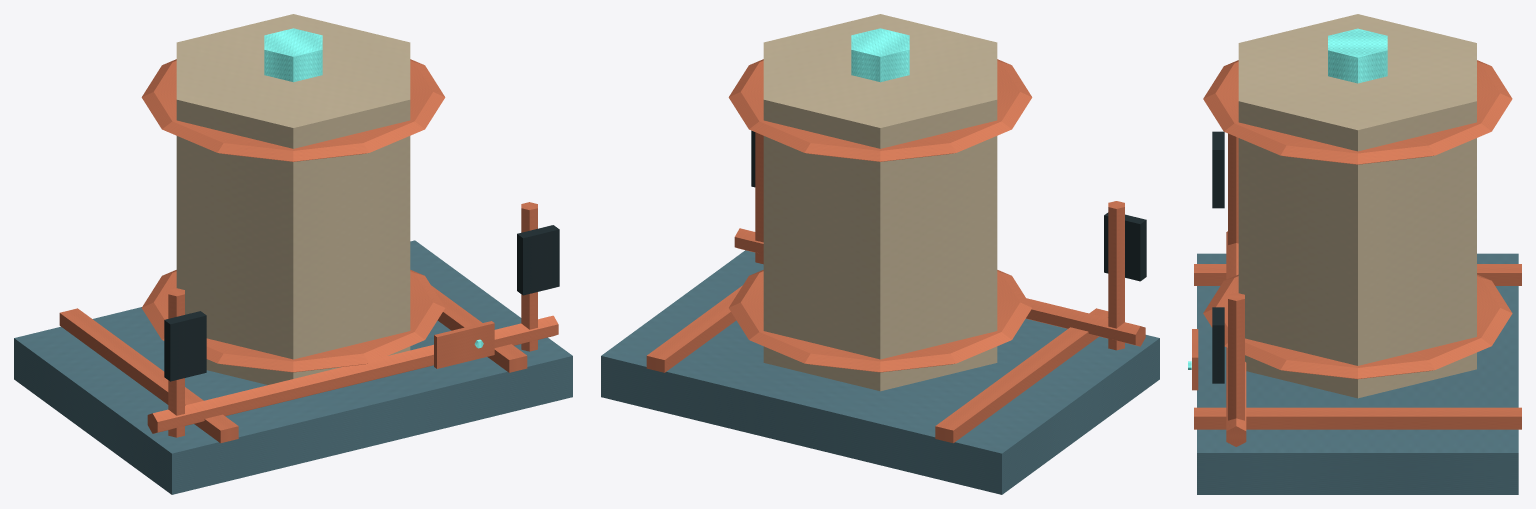
File: atlas100-s045-a02.lod1.glb
The picture shows the model from 3 angles, left to right: view 1: azimuth 30°, elevation 25°; view 2: azimuth 150°, elevation 25°; view 3: azimuth 270°, elevation 25°; orthographic projection.
Visible parts, largest first — view 1: atlas100-s045-a02:part-003, atlas100-s045-a02:part-000, atlas100-s045-a02:part-005, atlas100-s045-a02:part-011, atlas100-s045-a02:part-004, atlas100-s045-a02:part-001, atlas100-s045-a02:part-006, atlas100-s045-a02:part-008, atlas100-s045-a02:part-010, atlas100-s045-a02:part-012, atlas100-s045-a02:part-002, atlas100-s045-a02:part-009 (+1 smaller); view 2: atlas100-s045-a02:part-003, atlas100-s045-a02:part-000, atlas100-s045-a02:part-005, atlas100-s045-a02:part-004, atlas100-s045-a02:part-001, atlas100-s045-a02:part-011, atlas100-s045-a02:part-006, atlas100-s045-a02:part-002, atlas100-s045-a02:part-007, atlas100-s045-a02:part-008, atlas100-s045-a02:part-009; view 3: atlas100-s045-a02:part-003, atlas100-s045-a02:part-000, atlas100-s045-a02:part-005, atlas100-s045-a02:part-004, atlas100-s045-a02:part-002, atlas100-s045-a02:part-006, atlas100-s045-a02:part-009, atlas100-s045-a02:part-001, atlas100-s045-a02:part-011, atlas100-s045-a02:part-007, atlas100-s045-a02:part-008, atlas100-s045-a02:part-010 (+1 smaller).
Part boxes in pixels (bbox=[...]): atlas100-s045-a02:part-003: bbox=[176, 14, 410, 384]; atlas100-s045-a02:part-000: bbox=[14, 240, 572, 494]; atlas100-s045-a02:part-005: bbox=[141, 59, 445, 161]; atlas100-s045-a02:part-011: bbox=[147, 315, 558, 433]; atlas100-s045-a02:part-004: bbox=[142, 270, 444, 372]; atlas100-s045-a02:part-001: bbox=[59, 308, 238, 443]; atlas100-s045-a02:part-006: bbox=[264, 28, 322, 82]; atlas100-s045-a02:part-008: bbox=[164, 311, 206, 381]; atlas100-s045-a02:part-010: bbox=[517, 225, 559, 295]; atlas100-s045-a02:part-012: bbox=[434, 321, 494, 368]; atlas100-s045-a02:part-002: bbox=[431, 285, 527, 372]; atlas100-s045-a02:part-009: bbox=[521, 202, 537, 351]; atlas100-s045-a02:part-003: bbox=[763, 14, 997, 391]; atlas100-s045-a02:part-000: bbox=[601, 250, 1159, 494]; atlas100-s045-a02:part-005: bbox=[728, 59, 1032, 161]; atlas100-s045-a02:part-004: bbox=[729, 270, 1031, 372]; atlas100-s045-a02:part-001: bbox=[935, 308, 1108, 443]; atlas100-s045-a02:part-011: bbox=[734, 228, 1145, 346]; atlas100-s045-a02:part-006: bbox=[851, 28, 909, 82]; atlas100-s045-a02:part-002: bbox=[646, 285, 742, 372]; atlas100-s045-a02:part-007: bbox=[1108, 201, 1124, 350]; atlas100-s045-a02:part-008: bbox=[1104, 212, 1146, 281]; atlas100-s045-a02:part-009: bbox=[755, 132, 763, 264]; atlas100-s045-a02:part-003: bbox=[1238, 14, 1476, 398]; atlas100-s045-a02:part-000: bbox=[1197, 253, 1518, 494]; atlas100-s045-a02:part-005: bbox=[1203, 60, 1512, 164]; atlas100-s045-a02:part-004: bbox=[1203, 274, 1512, 379]; atlas100-s045-a02:part-002: bbox=[1194, 407, 1521, 429]; atlas100-s045-a02:part-006: bbox=[1328, 28, 1387, 83]; atlas100-s045-a02:part-009: bbox=[1228, 292, 1244, 420]; atlas100-s045-a02:part-001: bbox=[1194, 264, 1521, 285]; atlas100-s045-a02:part-011: bbox=[1226, 231, 1246, 446]; atlas100-s045-a02:part-007: bbox=[1228, 133, 1238, 244]; atlas100-s045-a02:part-008: bbox=[1212, 131, 1224, 208]; atlas100-s045-a02:part-010: bbox=[1212, 307, 1224, 383].
Bounding box in the file's own units: 2.64 × 2.18 × 1.87.
Materials: 5 (5 with a texture image).
